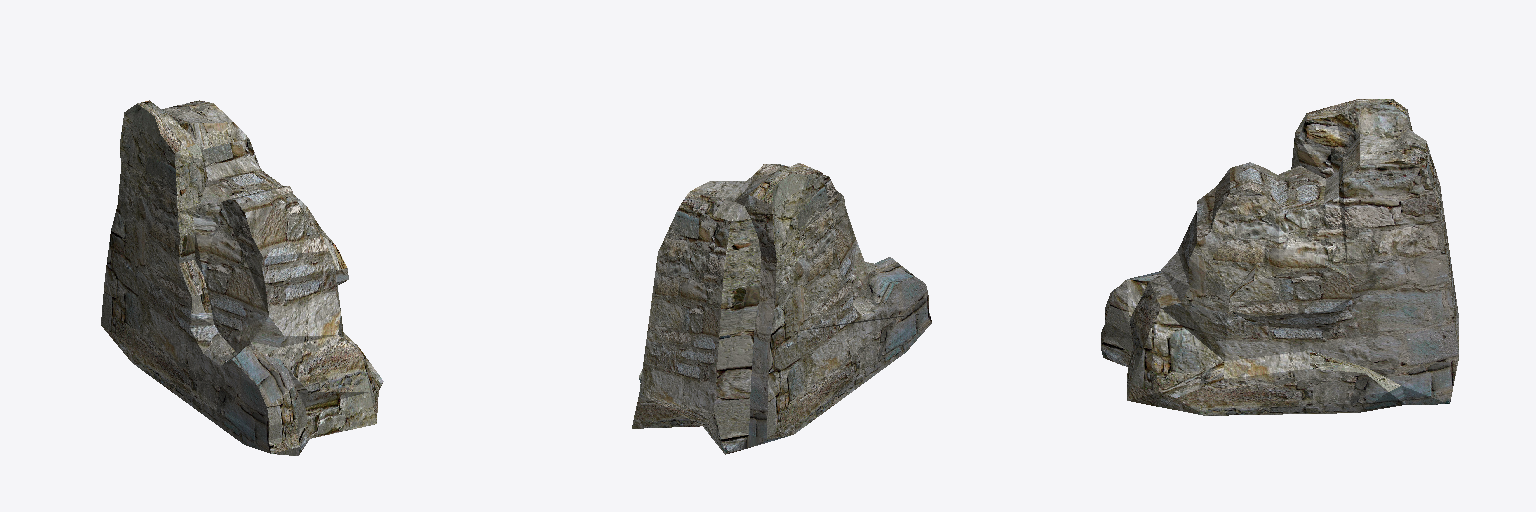
The picture shows the model from 3 angles: view 1: azimuth 30°, elevation 25°; view 2: azimuth 150°, elevation 25°; view 3: azimuth 270°, elevation 25°; orthographic projection.
Visible parts, largest first — view 1: Line02; view 2: Line02; view 3: Line02.
Boxes of the visible parts, box(x1,y1,x2,y2) form: Line02: box(101, 100, 383, 455); Line02: box(632, 163, 931, 454); Line02: box(1101, 99, 1458, 415).
Size of the model in its own units: 1.18 by 1.85 by 2.37.
Materials: 1 (1 with a texture image).